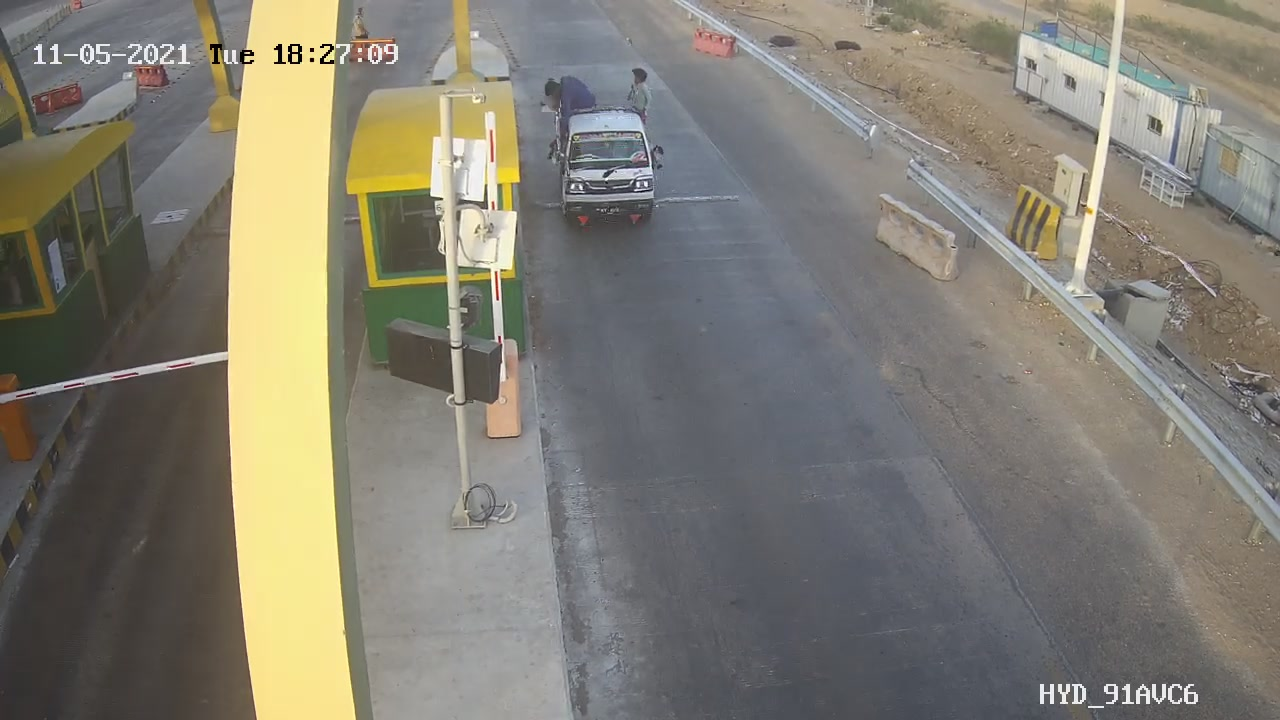F1: (552, 98, 671, 237)
